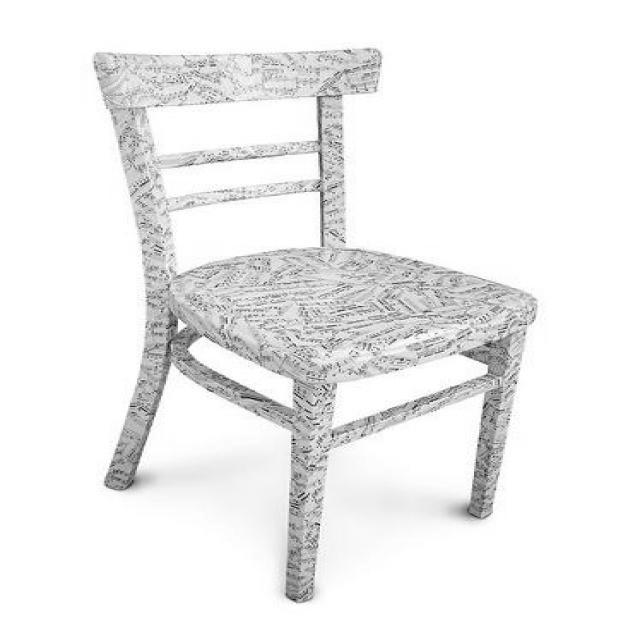chair: (89, 46, 537, 602)
